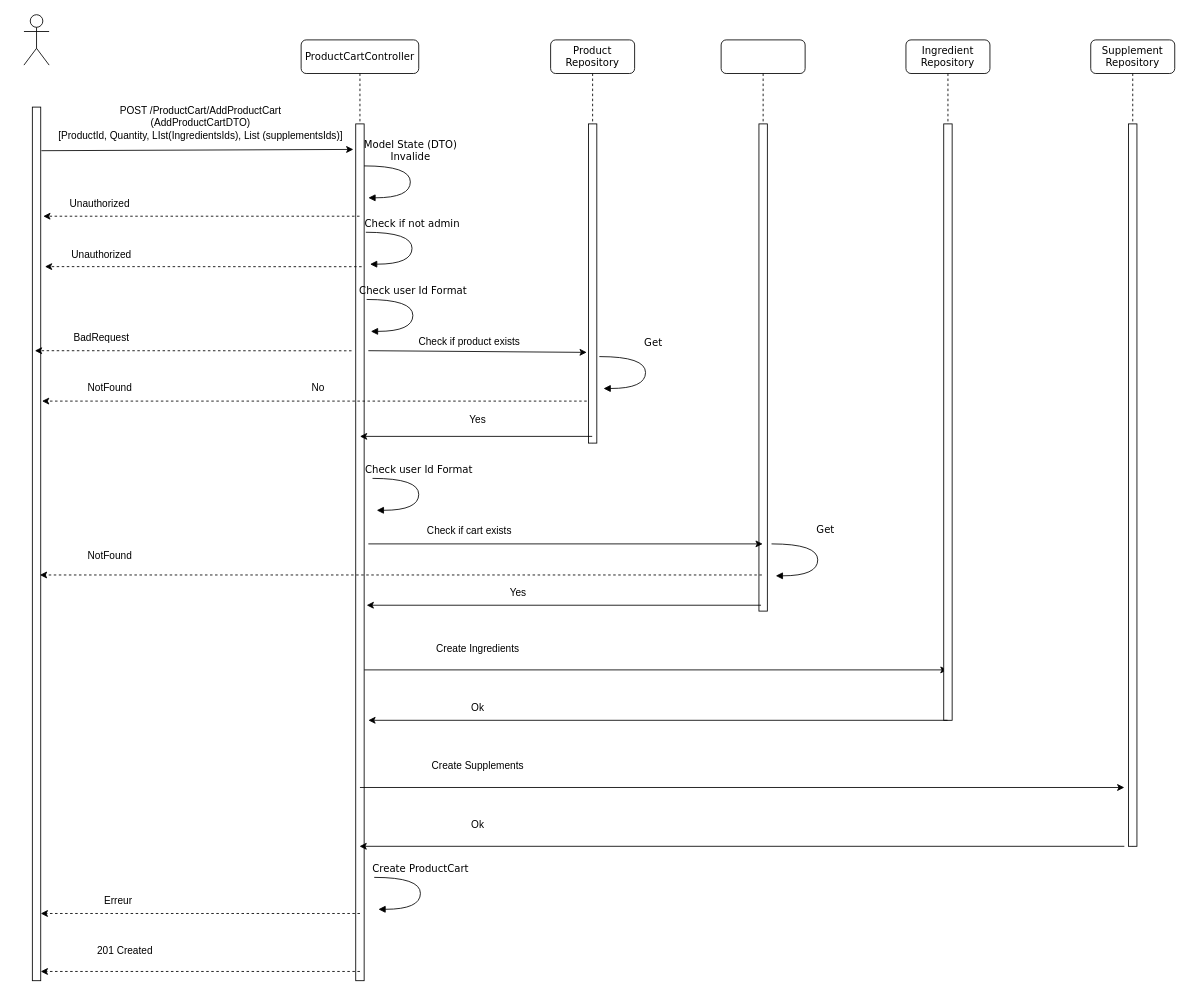
Image size: 1189x995. Some labels were removed from this diagram. The box of each missing label's shape, as (x1, y1, x2, y2) in pixels:
Cart Repository: (720, 39, 805, 611)
Utilisateur Normal: (23, 14, 49, 65)
